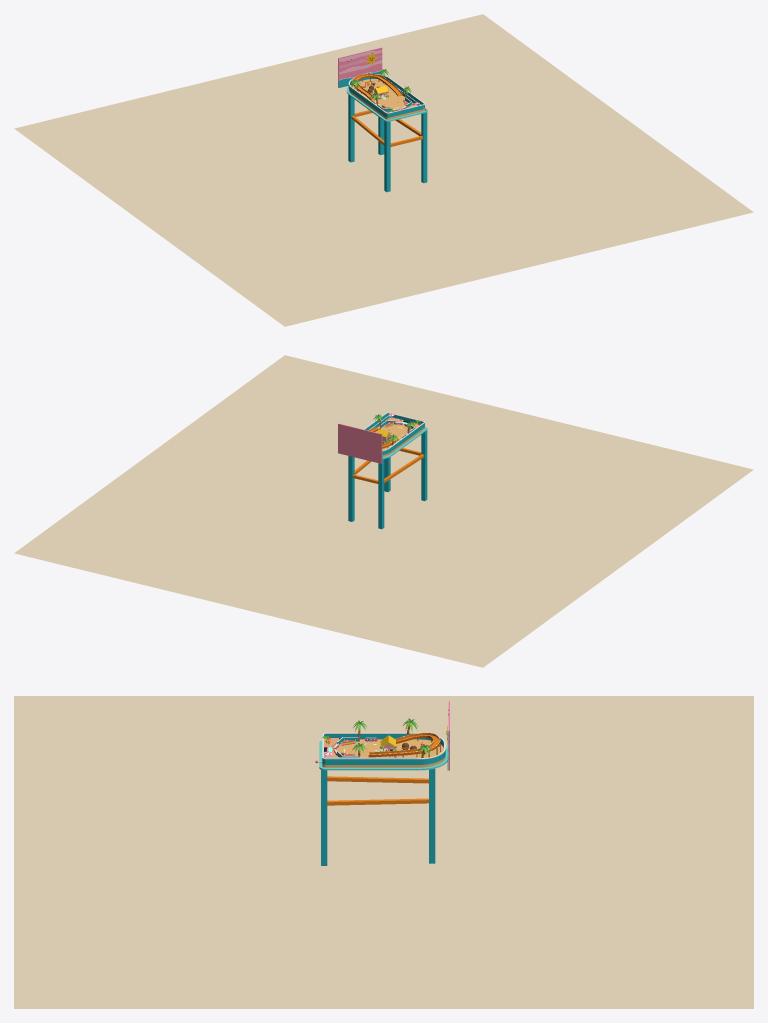
File: pinball.fbx
3 views of the same model, one above another, from view 1: azimuth 30°, elevation 25°; view 2: azimuth 150°, elevation 25°; view 3: azimuth 270°, elevation 25° (orthographic). The views are drawn at different scales.
Parts seen in each view (by area): view 1: Piso, Pinball, PF_Base_Island, Decor_Backdrop_SkyArt, PF_Wall_Outer_Sea, Decor_Backdrop_Sky; view 2: Piso, Pinball, Decor_Backdrop_Sky; view 3: Piso, PF_Wall_Outer_Sea, PF_Base_Island, Pinball, PF_Ramp_SandWave, PF_Sea_Border, Pinball_Rail_L, Pinball_Rail_R.
Part boxes in pixels (x1,y1,x2,y2): Piso: (14, 14, 753, 326); Pinball: (348, 95, 427, 192); PF_Base_Island: (349, 79, 424, 119); Decor_Backdrop_SkyArt: (338, 50, 382, 87); PF_Wall_Outer_Sea: (348, 74, 424, 117); Decor_Backdrop_Sky: (338, 47, 382, 87); Piso: (14, 355, 753, 667); Pinball: (348, 430, 427, 529); Decor_Backdrop_Sky: (338, 423, 382, 463); Piso: (14, 696, 753, 1008); PF_Wall_Outer_Sea: (322, 732, 445, 764); PF_Base_Island: (322, 739, 445, 767); Pinball: (321, 768, 435, 865); PF_Ramp_SandWave: (368, 732, 440, 757); PF_Sea_Border: (319, 741, 448, 770); Pinball_Rail_L: (327, 776, 428, 783); Pinball_Rail_R: (327, 798, 428, 805).
Size of the model in its own units: 6 by 2.12 by 6.
